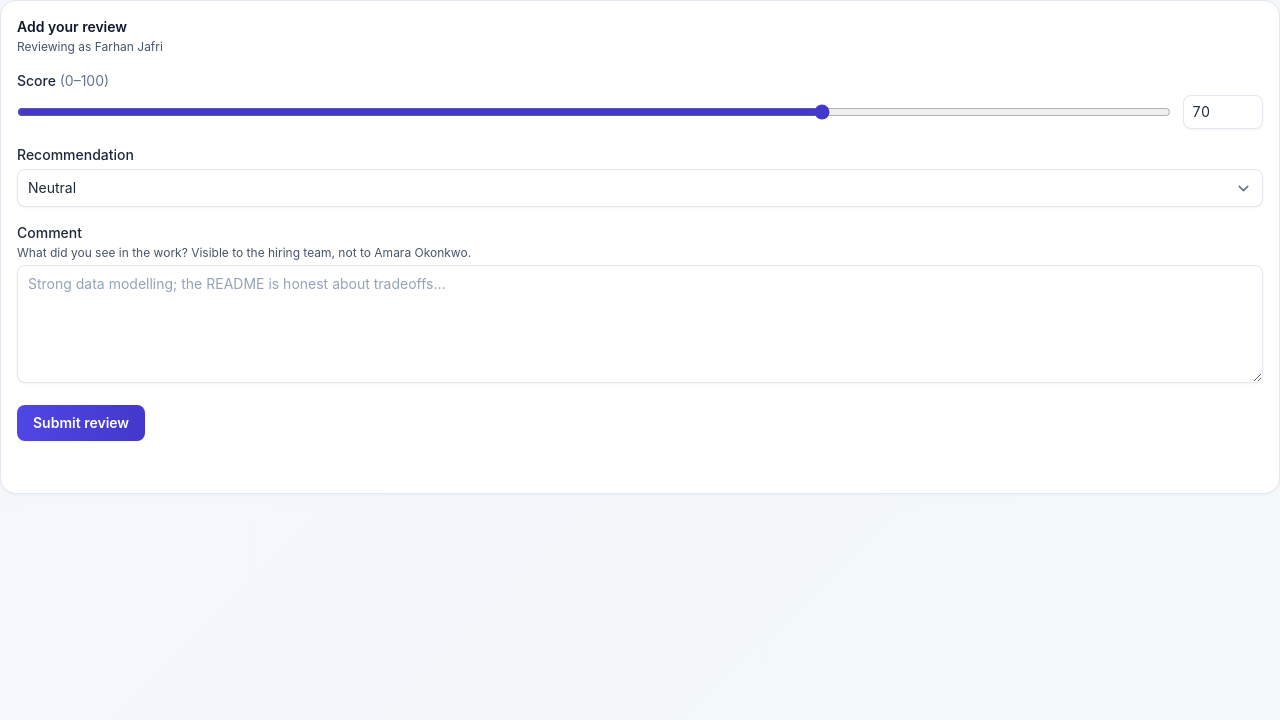
ReviewForm › surfaces field errors returned by the action and keeps what was typed
The image size is (1280, 720).
Type "Too short" into the text box labelled "Comment" at (640, 324), box [17,265,1263,383]
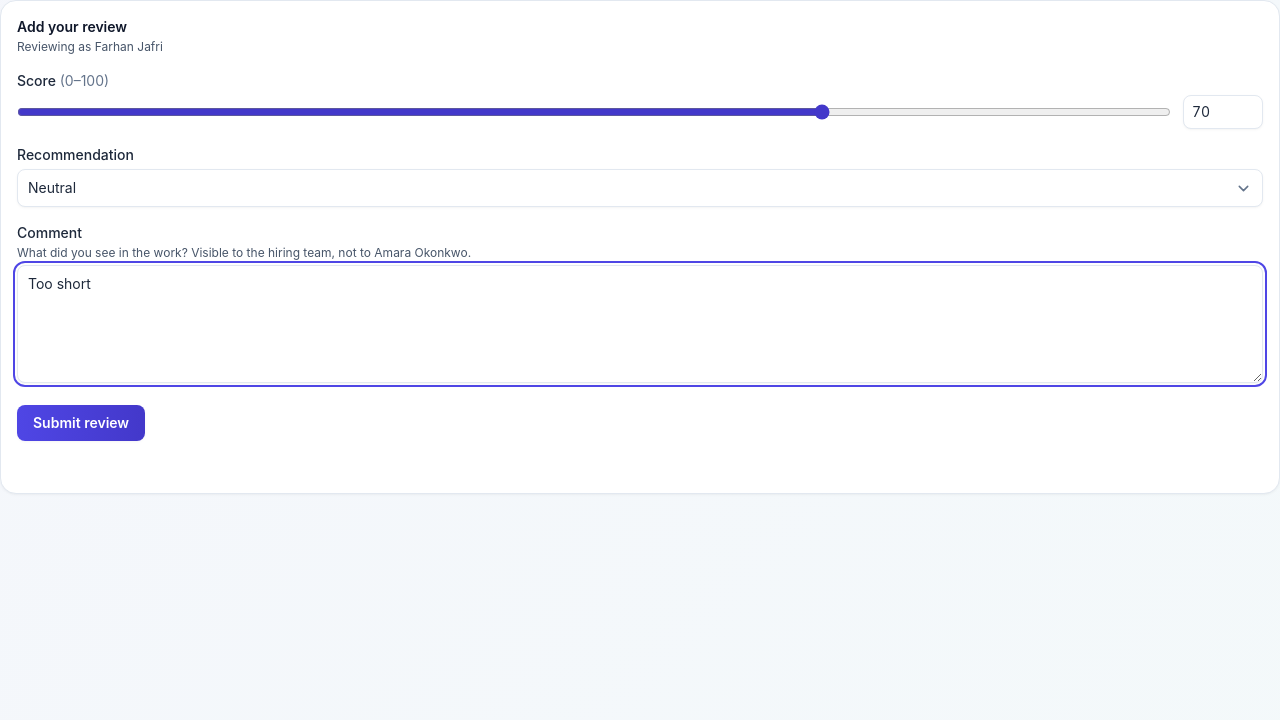
Click the button "Submit review" at (81, 423), box [17,405,145,441]
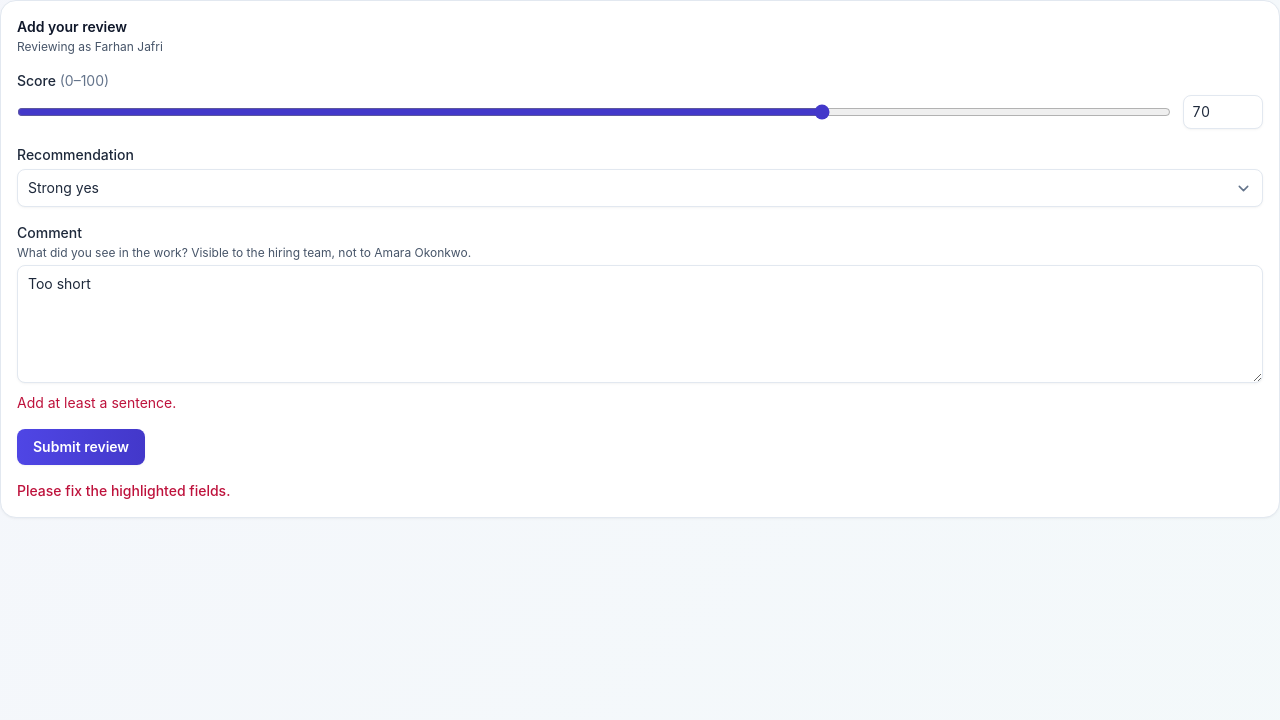
Result: the text "Add at least a sentence." is shown at [17,394,176,411]
